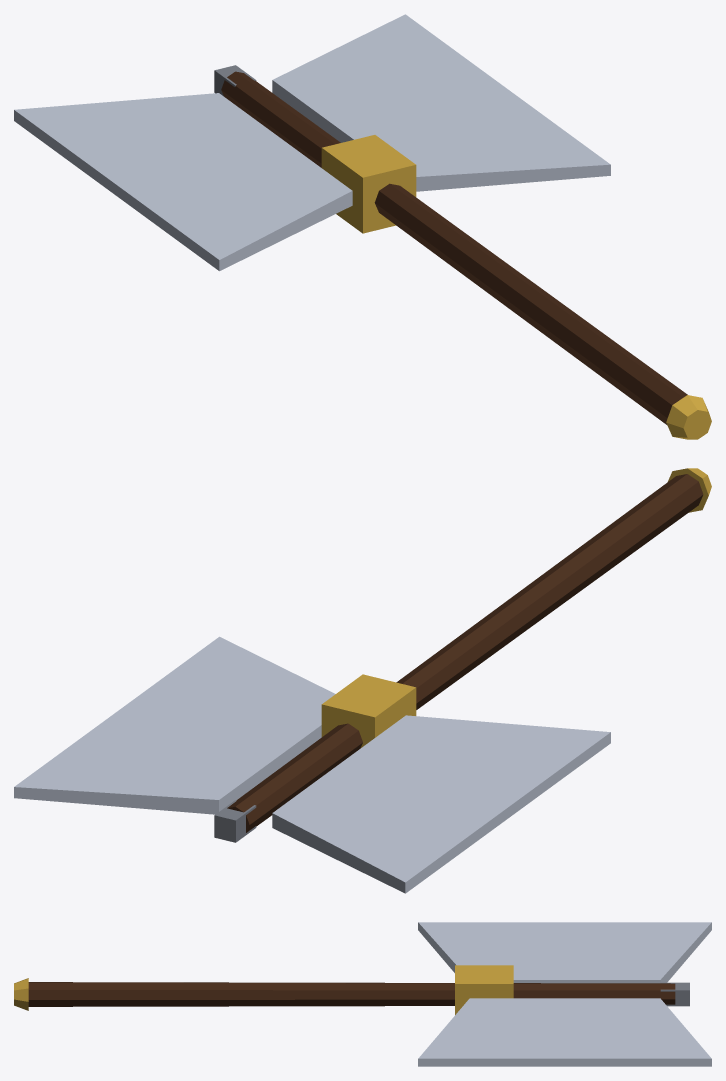
The model's file is axe.glb.
3 views of the same model, one above another, from view 1: azimuth 30°, elevation 25°; view 2: azimuth 150°, elevation 25°; view 3: azimuth 270°, elevation 25° (orthographic). The views are drawn at different scales.
Visible parts, largest first — view 1: Axe; view 2: Axe; view 3: Axe.
Boxes of the visible parts, x1,y1,x2,y2 form: Axe: [14, 14, 711, 439]; Axe: [14, 468, 711, 893]; Axe: [14, 922, 711, 1066].
Bounding box in the file's own units: 0.44 × 0.06 × 0.95.
